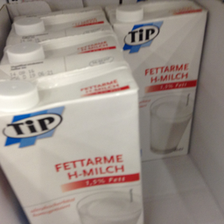milk: (1, 67, 143, 224), (109, 3, 208, 166)
